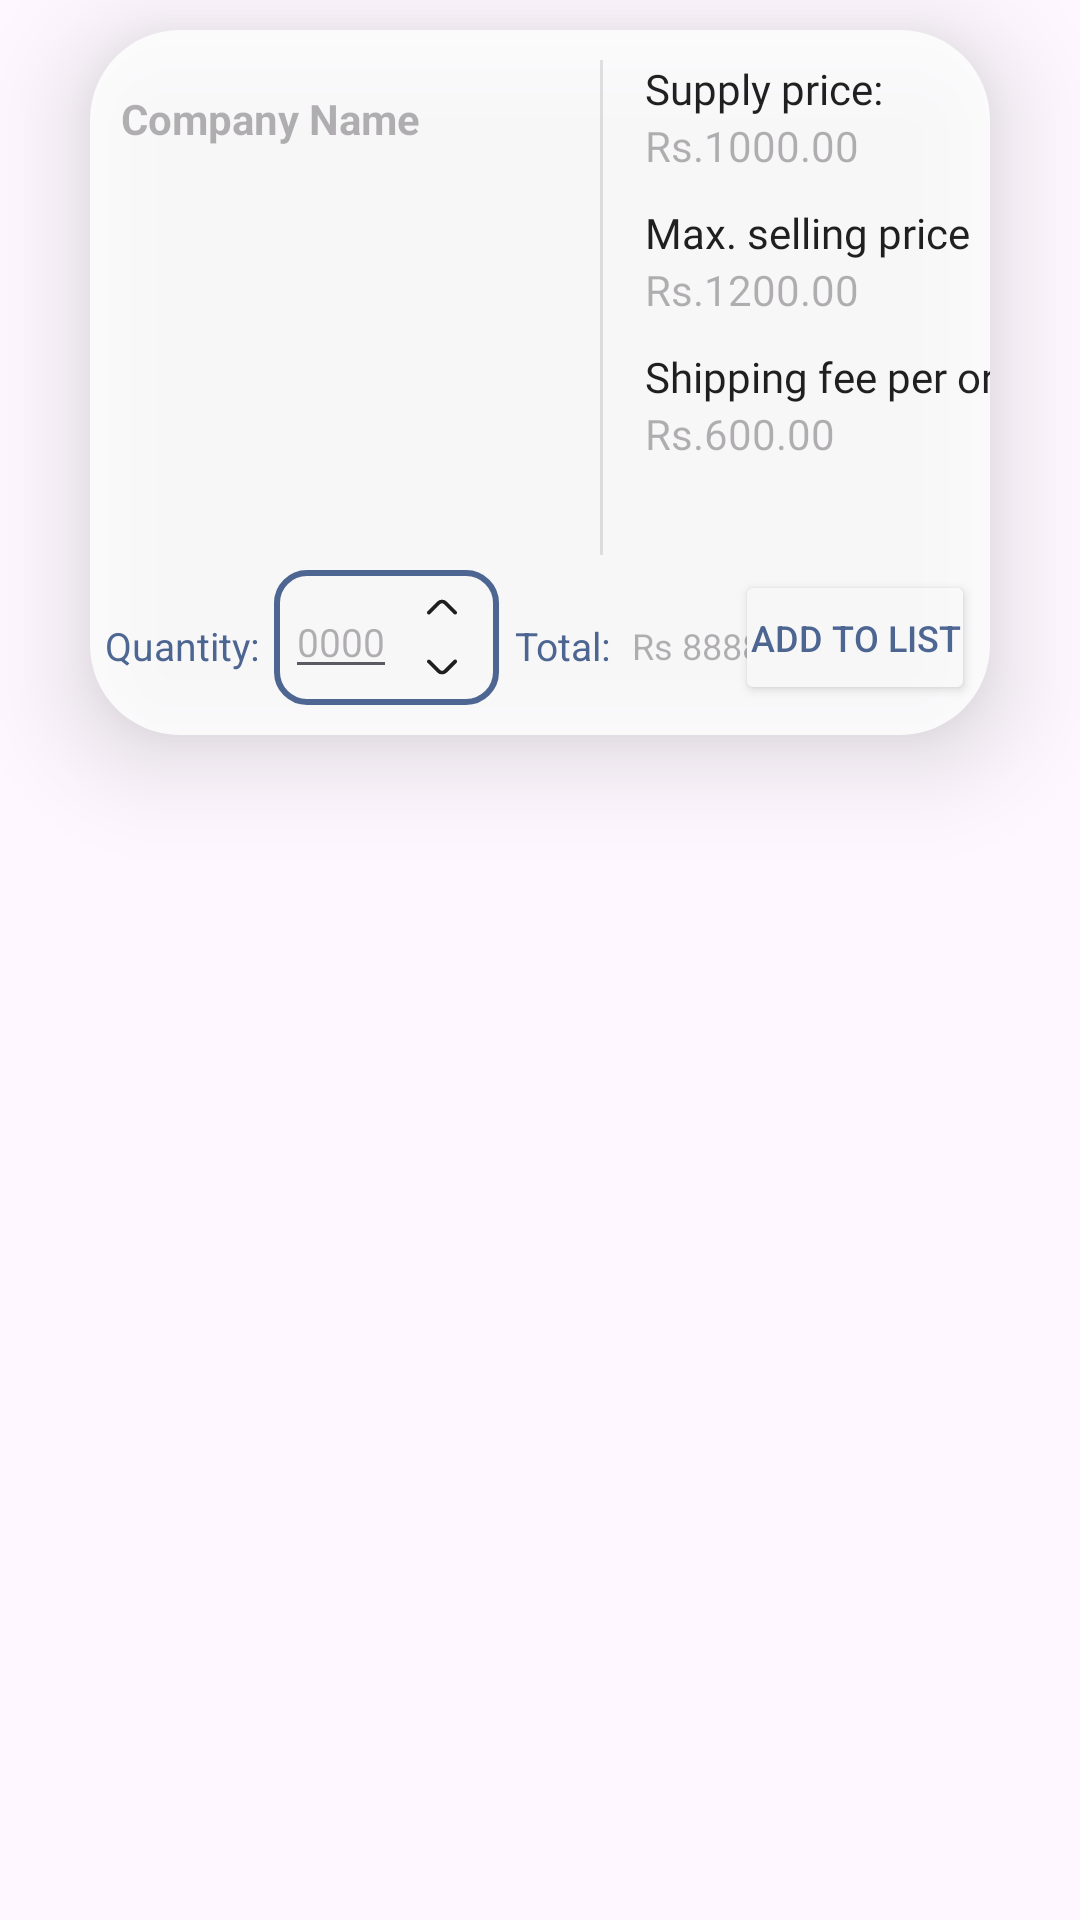

Where to tap for icons on this 1080 × 1920 app screen, as (x=x, y=y):
downicon: (x=442, y=667)
upicon: (x=442, y=607)
